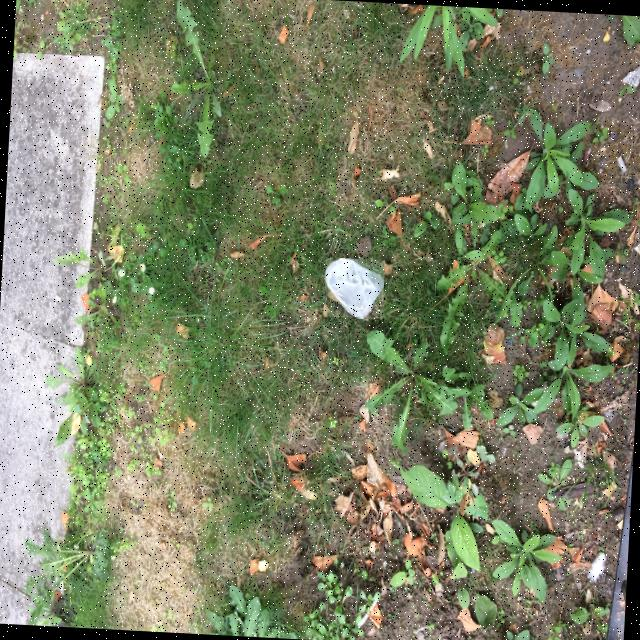Plastic film: (325, 259, 384, 318)
